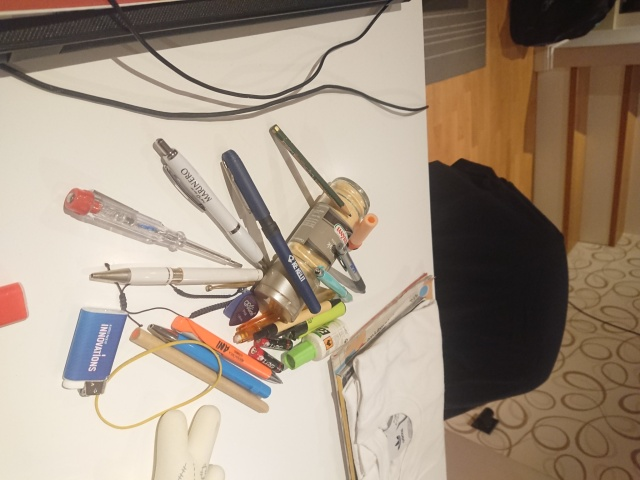Kotanyi Garlic Granules 70g: (249, 174, 372, 324)
